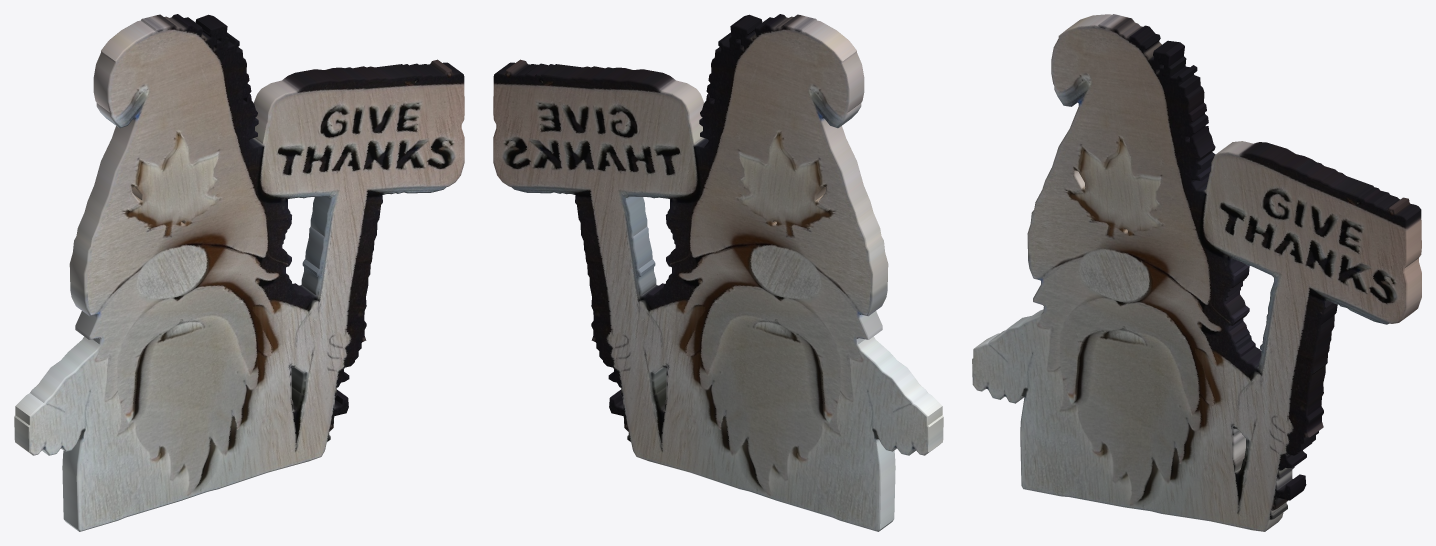
File: gnome-sign.glb
The picture shows the model from 3 angles, left to right: view 1: azimuth 30°, elevation 25°; view 2: azimuth 150°, elevation 25°; view 3: azimuth 330°, elevation 25°; orthographic projection.
Parts seen in each view (by area): view 1: Gnome sign; view 2: Gnome sign; view 3: Gnome sign.
Boxes of the visible parts, left/top/right/bottom form: Gnome sign: left=14, top=14, right=464, bottom=531; Gnome sign: left=493, top=14, right=943, bottom=531; Gnome sign: left=972, top=14, right=1421, bottom=531.
Size of the model in its own units: 0.3559 by 0.3773 by 0.0214.
Materials: 1 (1 with a texture image).
